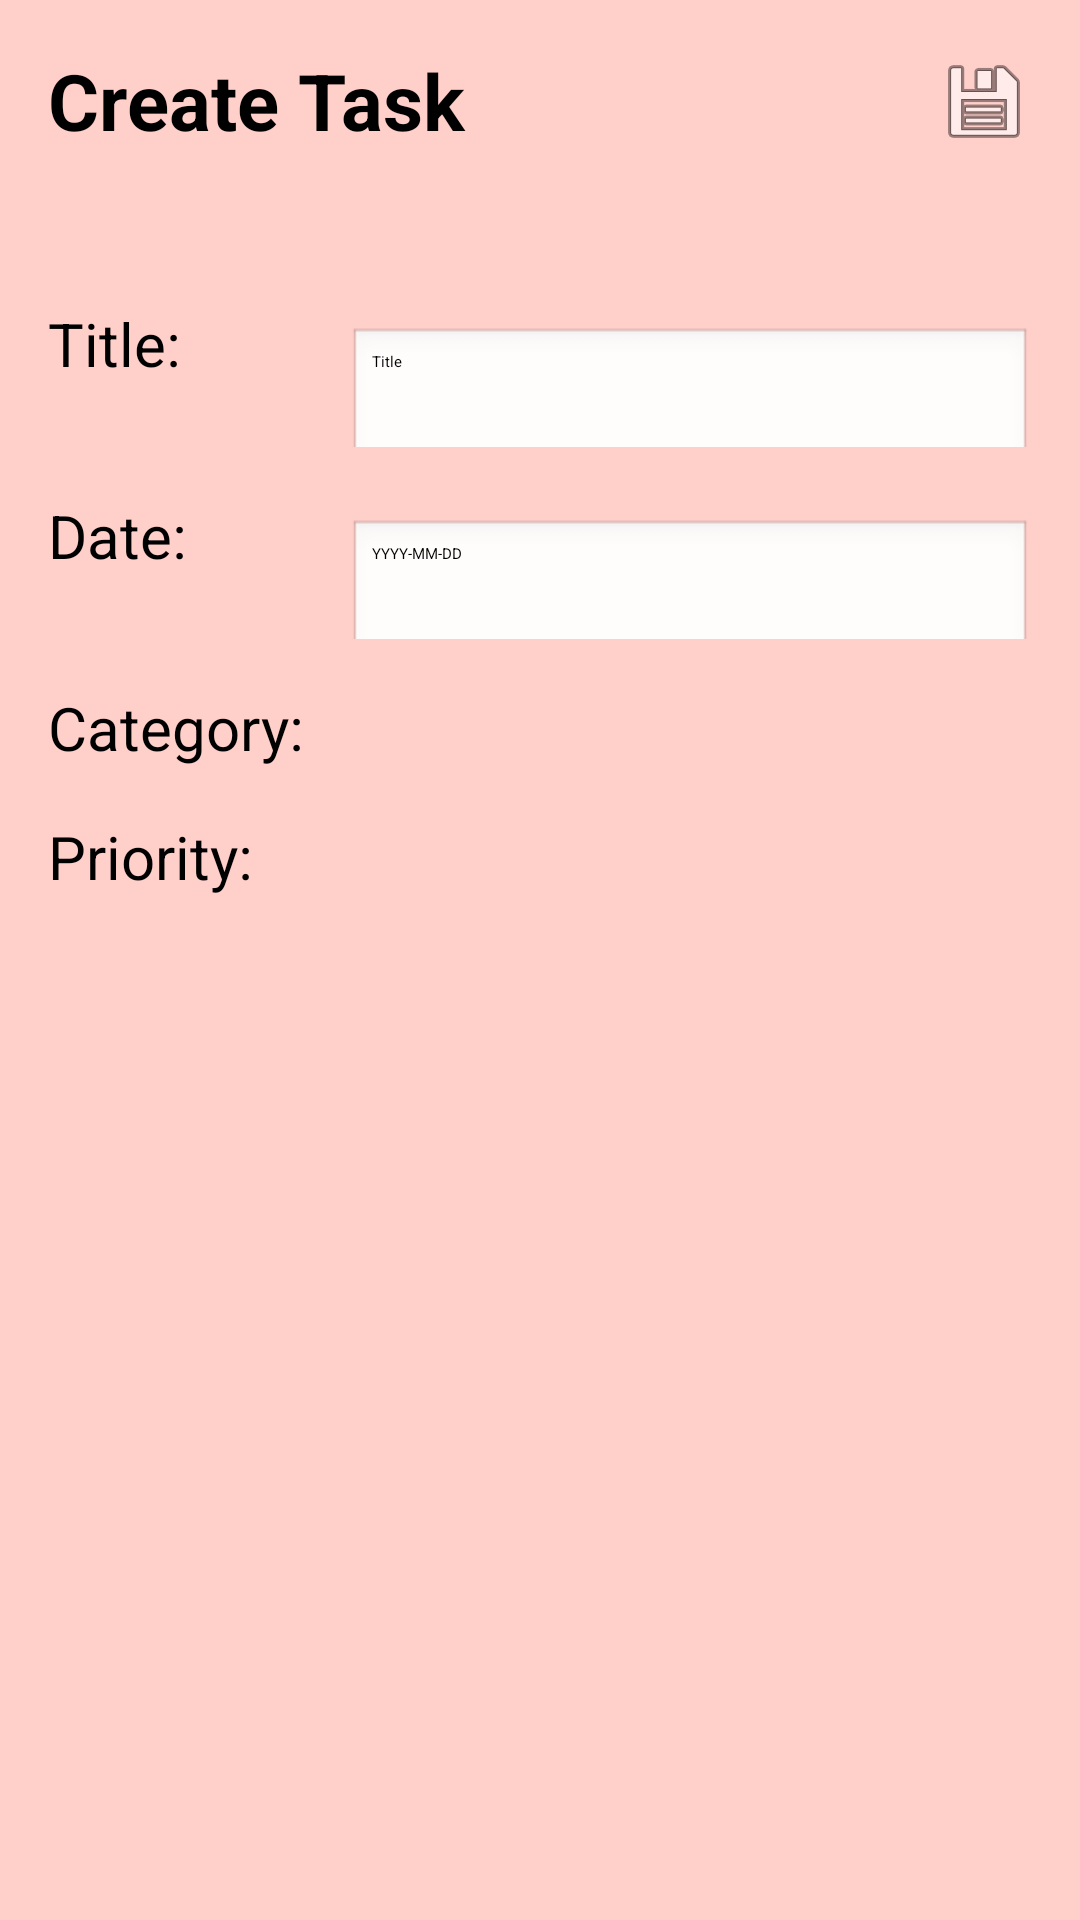

Named icons in this screenshot (1080*1920) and their centers, (x,y):
save: (984,101)
